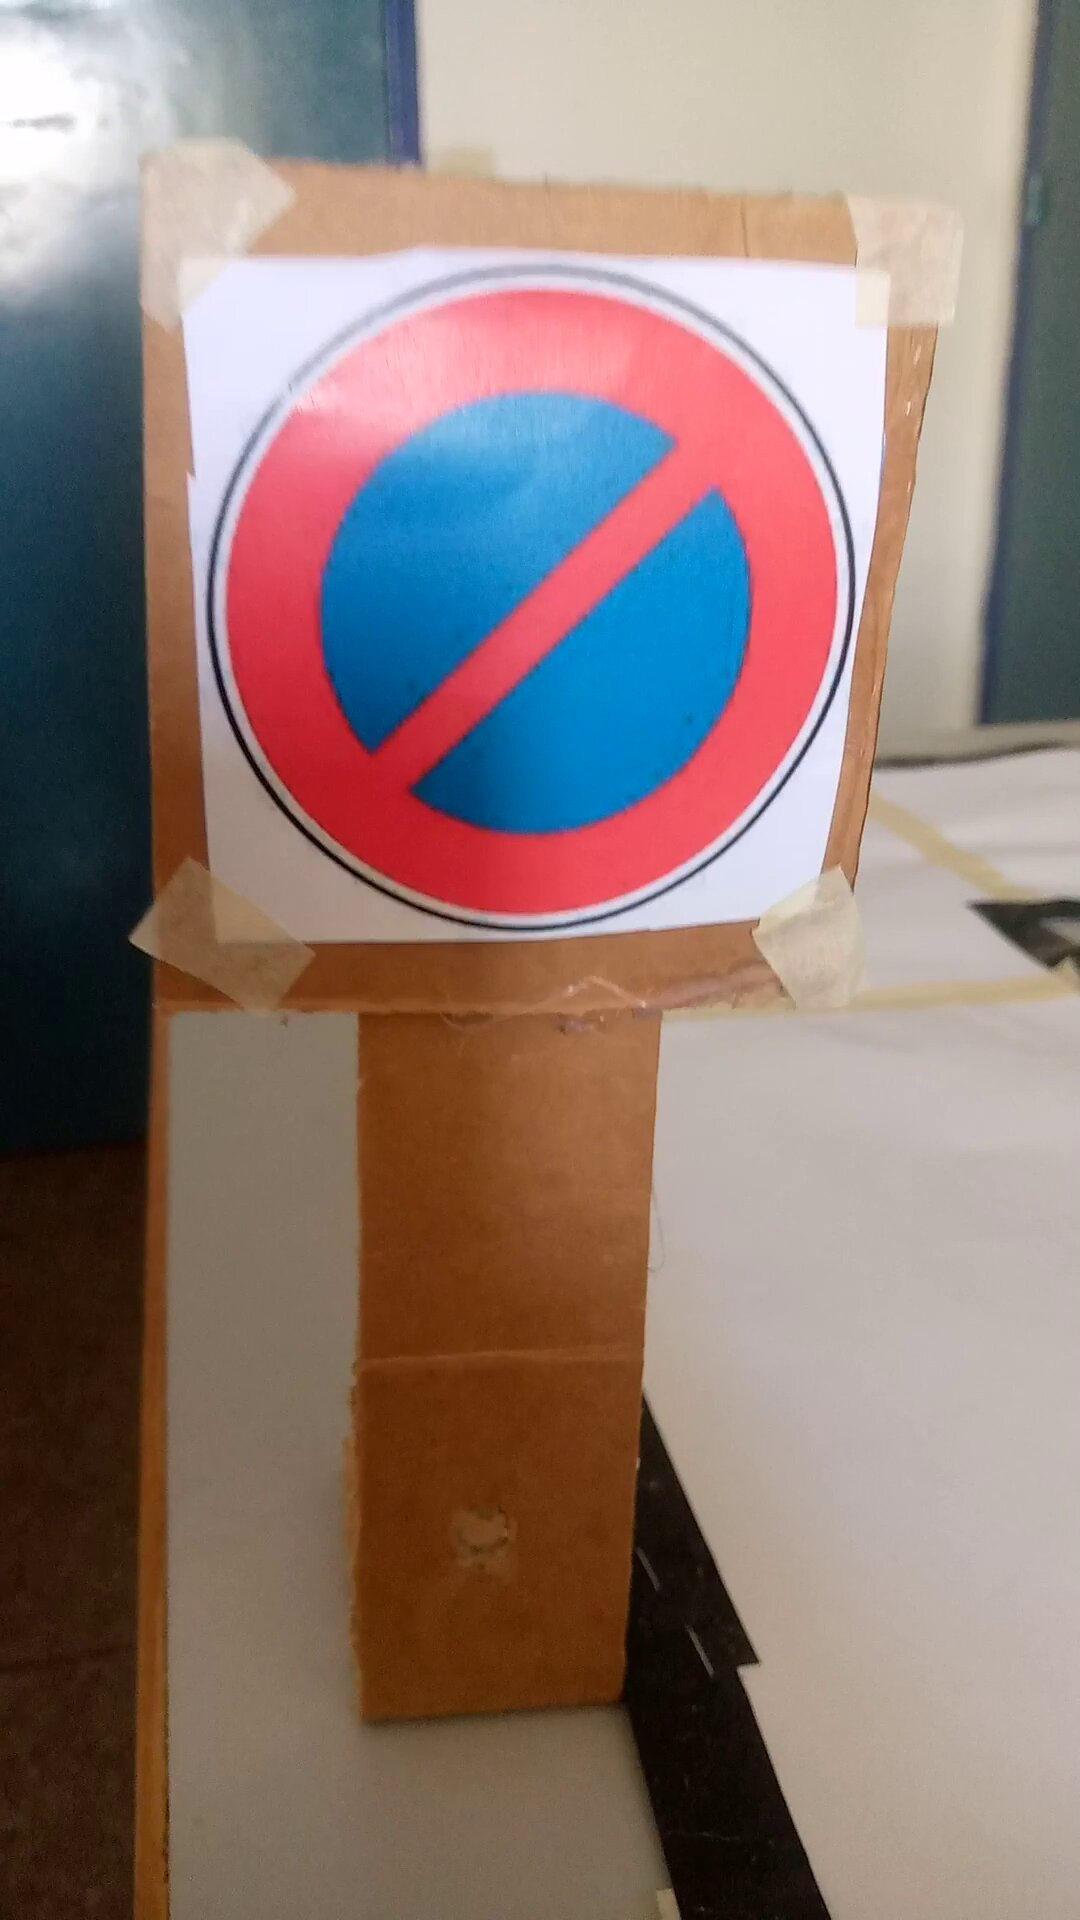panel110: (158, 251, 833, 953)
